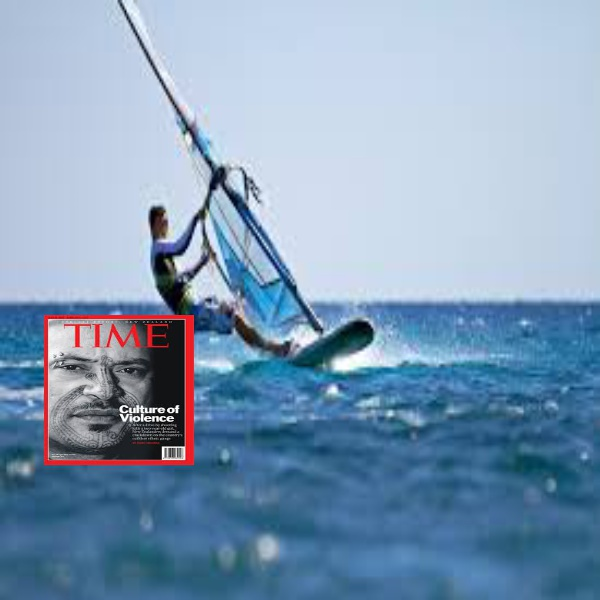time_cover: (33, 303, 203, 469)
